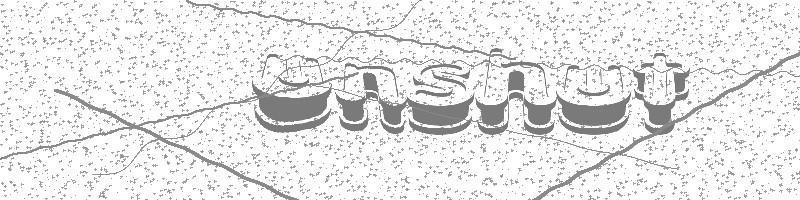h: (476, 44, 557, 137)
n: (338, 57, 409, 130)
s: (404, 58, 475, 137)
t: (634, 51, 692, 134)
u: (252, 46, 333, 128), (557, 59, 634, 132)
